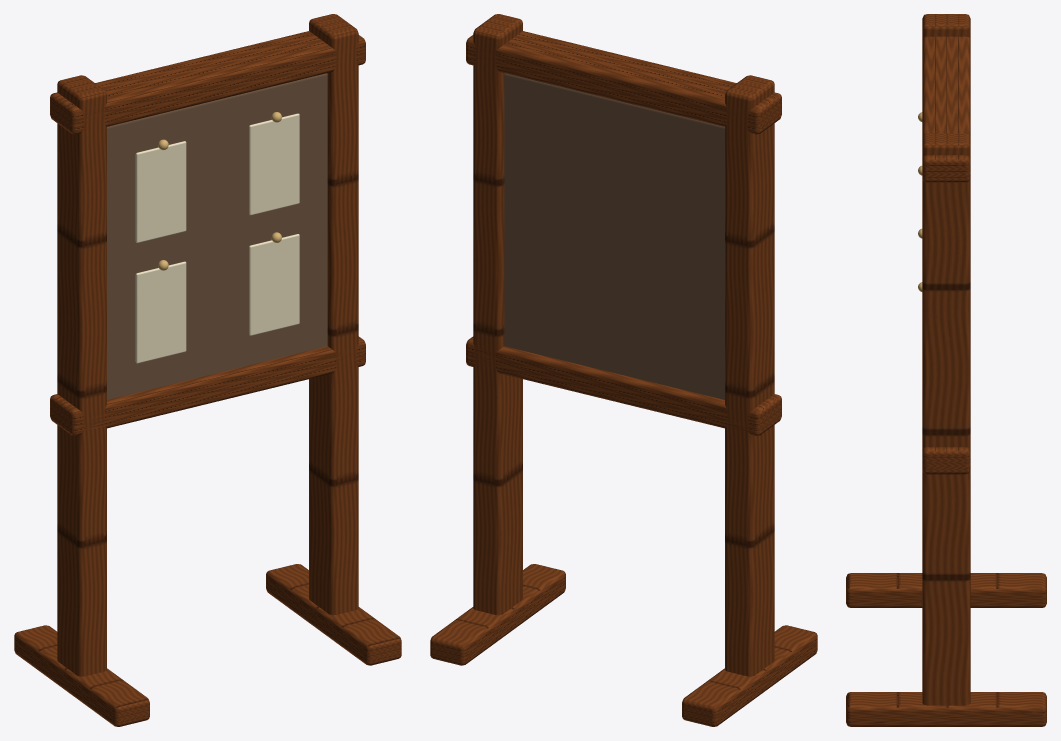
Rendered from adventurers-tavern-and-guild-hall-bounty-poster-stand-72d3cad3__24741.glb.
3 views of the same model, side by side, from view 1: azimuth 30°, elevation 25°; view 2: azimuth 150°, elevation 25°; view 3: azimuth 270°, elevation 25° (orthographic). The views are drawn at different scales.
Parts seen in each view (by area): view 1: bounty-poster-stand; view 2: bounty-poster-stand; view 3: bounty-poster-stand.
Boxes of the visible parts, x1,y1,x2,y2 form: bounty-poster-stand: [14, 14, 401, 726]; bounty-poster-stand: [430, 14, 817, 726]; bounty-poster-stand: [846, 14, 1046, 726].
Size of the model in its own units: 0.82 by 1.6 by 0.5001.
4 materials, 1 textured.
